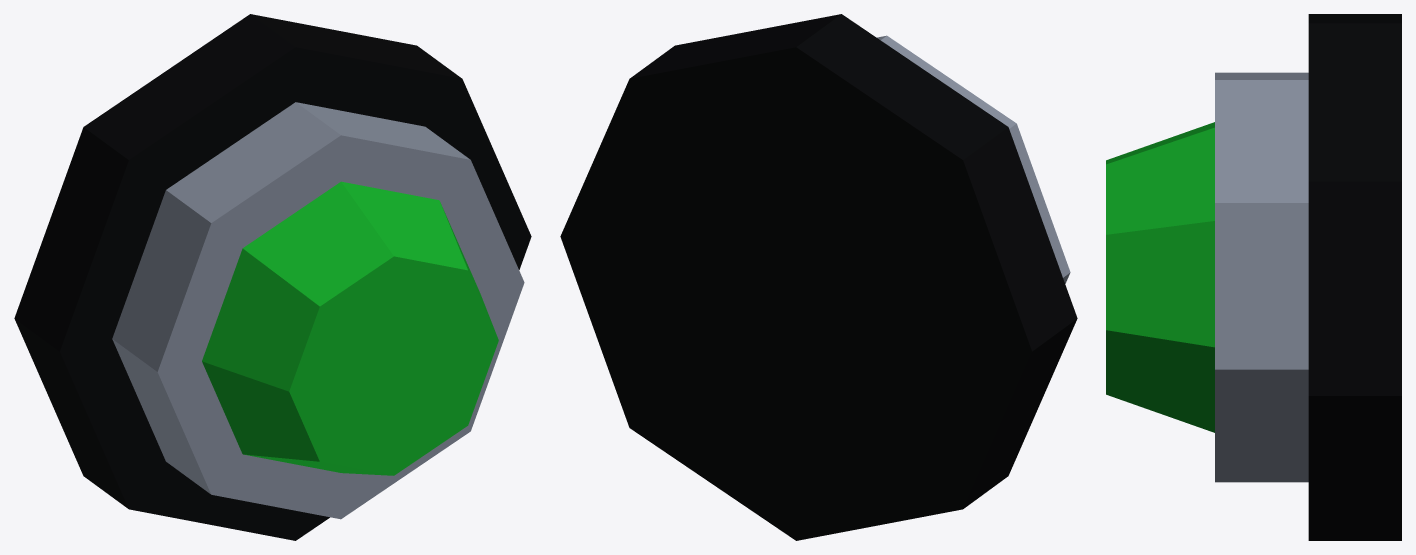
File: SM_Indicator_Light_Green.glb
3 views of the same model, side by side, from view 1: azimuth 30°, elevation 25°; view 2: azimuth 150°, elevation 25°; view 3: azimuth 270°, elevation 25° (orthographic). The views are drawn at different scales.
Parts seen in each view (by area): view 1: SM_Indicator_Light_Green; view 2: SM_Indicator_Light_Green; view 3: SM_Indicator_Light_Green.
Part boxes in pixels (bbox=[...]): SM_Indicator_Light_Green: bbox=[14, 14, 531, 540]; SM_Indicator_Light_Green: bbox=[560, 14, 1077, 540]; SM_Indicator_Light_Green: bbox=[1106, 14, 1401, 540].
Bounding box in the file's own units: 0.18 × 0.18 × 0.095.
